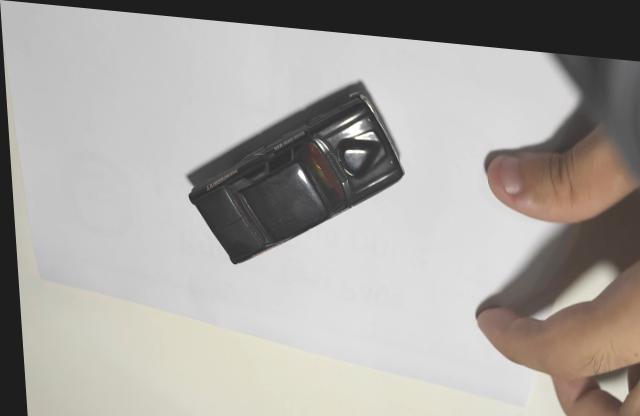01_FORD: (183, 71, 404, 260)
